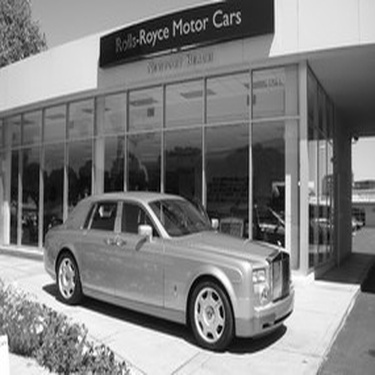car: (36, 188, 299, 355), (226, 197, 292, 246), (1, 190, 46, 229)
